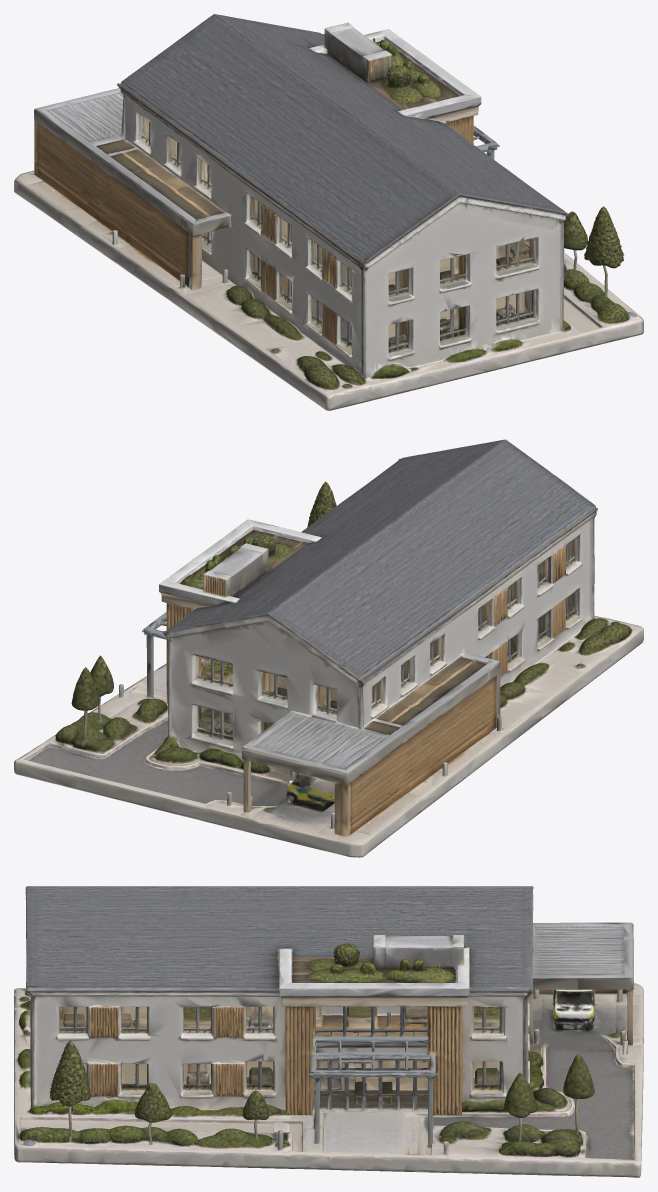
Rendered from b1-hospital.glb.
3 renders of one model, top to bottom at view 1: azimuth 30°, elevation 25°; view 2: azimuth 150°, elevation 25°; view 3: azimuth 270°, elevation 25°, orthographic. The views are drawn at different scales.
Parts seen in each view (by area): view 1: tripo_node_3b6cd116-da36-4da3-8204-a476ec04c7f0; view 2: tripo_node_3b6cd116-da36-4da3-8204-a476ec04c7f0; view 3: tripo_node_3b6cd116-da36-4da3-8204-a476ec04c7f0.
Part boxes in pixels (x1=…): tripo_node_3b6cd116-da36-4da3-8204-a476ec04c7f0: x1=14, y1=14, x2=643, y2=410; tripo_node_3b6cd116-da36-4da3-8204-a476ec04c7f0: x1=14, y1=439, x2=643, y2=857; tripo_node_3b6cd116-da36-4da3-8204-a476ec04c7f0: x1=14, y1=886, x2=643, y2=1177.
Size of the model in its own units: 0.6663 by 0.3195 by 0.9795.
1 material, 1 textured.
